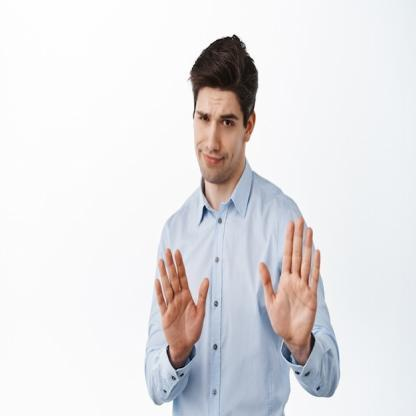stop: (256, 214, 323, 356), (152, 245, 212, 363)
